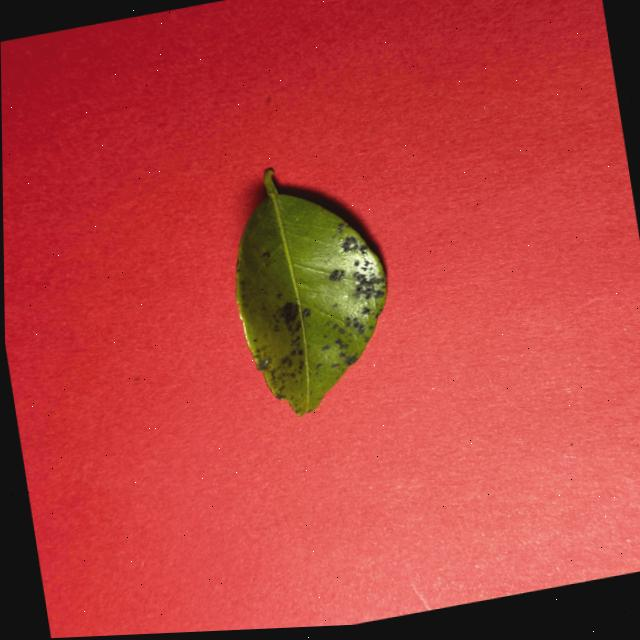sooty_mold: (236, 171, 387, 416)
